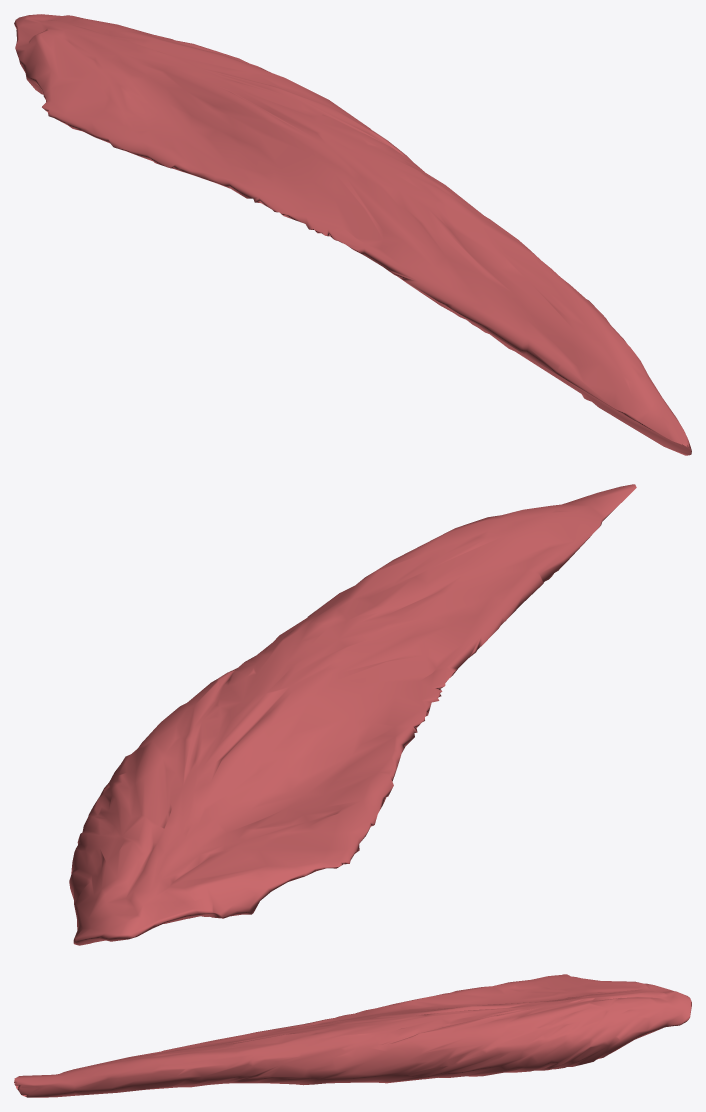
The picture shows the model from 3 angles, top to bottom: view 1: azimuth 30°, elevation 25°; view 2: azimuth 150°, elevation 25°; view 3: azimuth 270°, elevation 25°; orthographic projection. The views are drawn at different scales.
Visible parts, largest first — view 1: 右侧肱三头肌内侧头; view 2: 右侧肱三头肌内侧头; view 3: 右侧肱三头肌内侧头.
Boxes of the visible parts, left/top/right/bottom form: 右侧肱三头肌内侧头: left=14, top=14, right=691, bottom=455; 右侧肱三头肌内侧头: left=69, top=484, right=636, bottom=945; 右侧肱三头肌内侧头: left=14, top=974, right=691, bottom=1097.
Size of the model in its own units: 0.0918 by 0.0394 by 0.3453.
